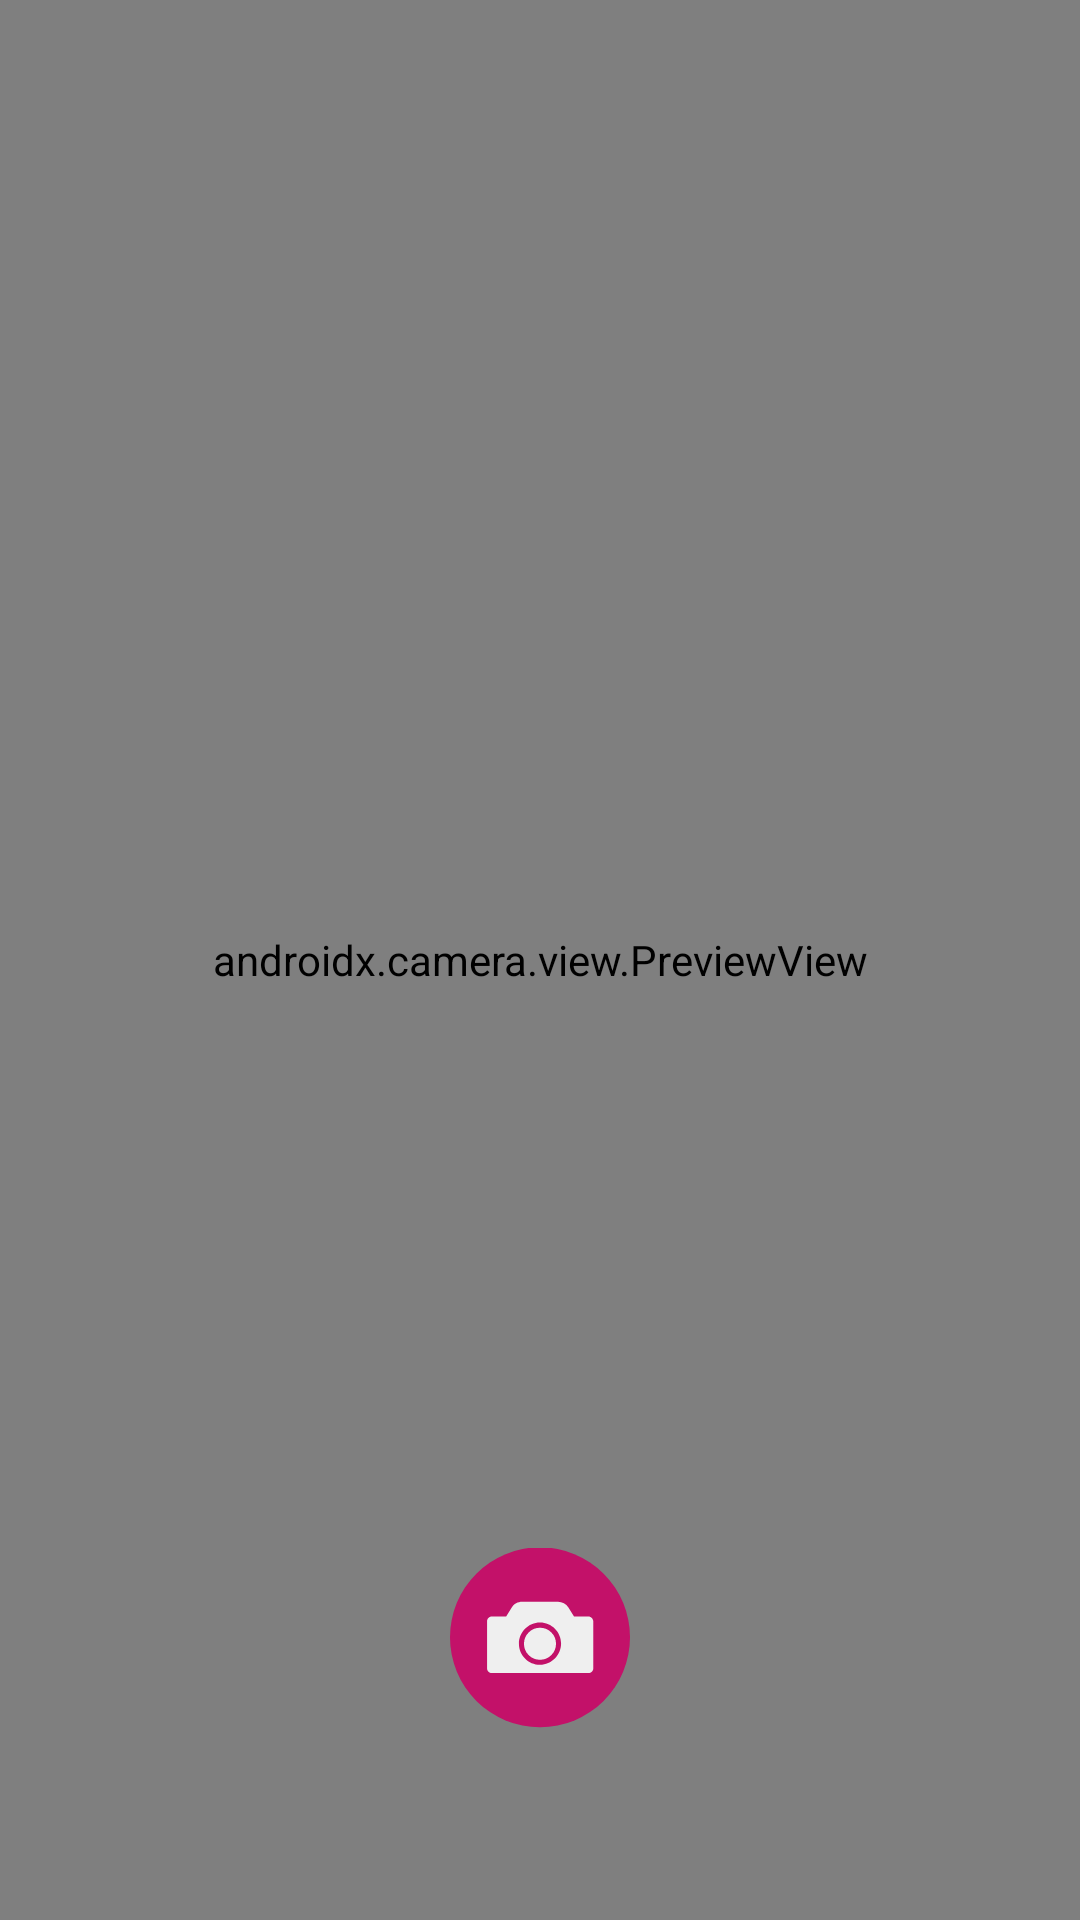

Where icons sit on this 1080×1920 app screen, as {"left": x1, "top": y1, "right": x2, "bottom": y2}:
capture: {"left": 450, "top": 1548, "right": 630, "bottom": 1728}
